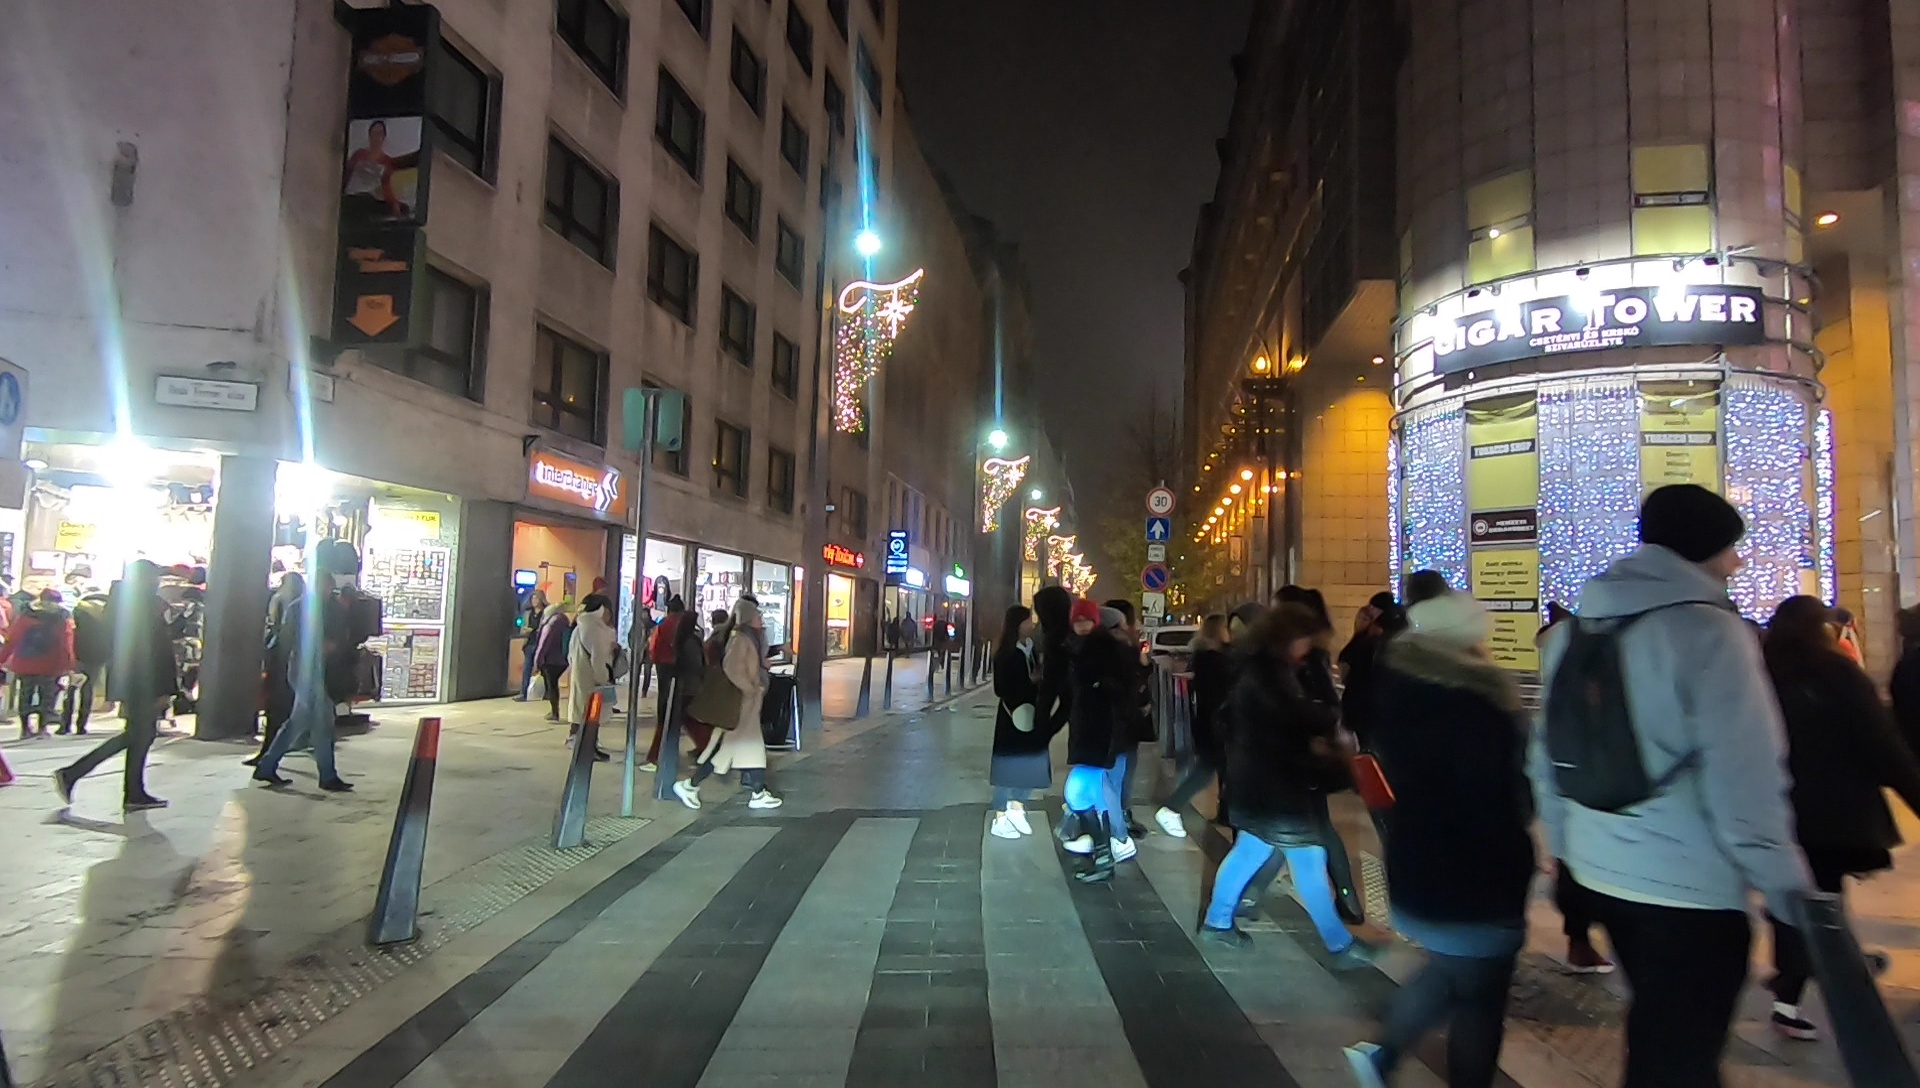person: (1551, 483, 1800, 1087), (1342, 598, 1515, 1084), (1196, 598, 1371, 963), (1755, 577, 1867, 1038), (1052, 601, 1128, 880), (681, 601, 781, 810), (1154, 610, 1232, 852), (986, 608, 1035, 842), (570, 603, 614, 761), (536, 600, 567, 720)
